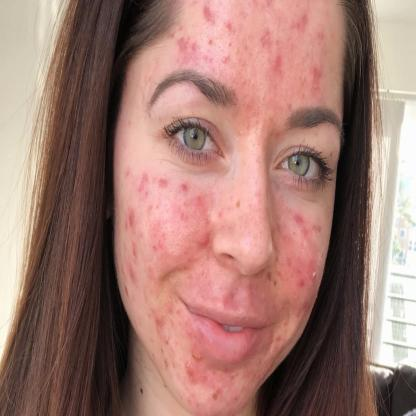Acne: (183, 358, 197, 384), (310, 268, 318, 284)
